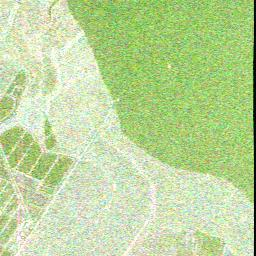Ship: (164, 60, 175, 74)
